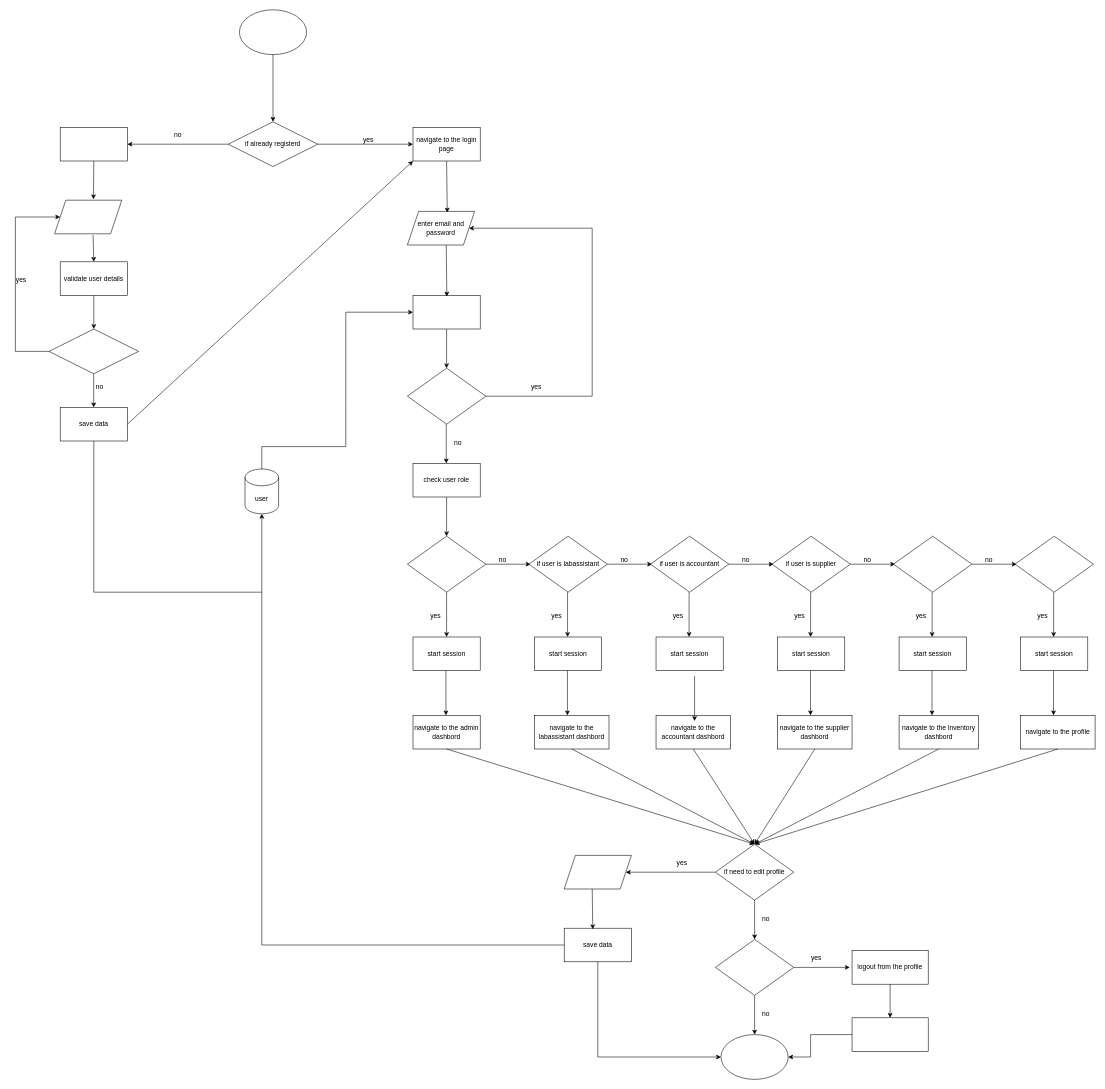
This 1105x1089 diagram has some shape labels left out. The centre of each missing label's shape, as x and y in pixels:
"end" goes at (754,1056).
"end session" goes at (889,1034).
"enter details" goes at (88,217).
"enter new data" goes at (597,872).
"if details are invalid" goes at (93,351).
"if email and password is invalid" goes at (446,396).
"if need to logout" goes at (754,967).
"if user is admin" goes at (446,564).
"if user is customer" goes at (1053,564).
"if user is inventory manager" goes at (932,564).
"navigation to the registration page" goes at (93,144).
"Start" goes at (273,32).
"validate email and password" goes at (446,312).
